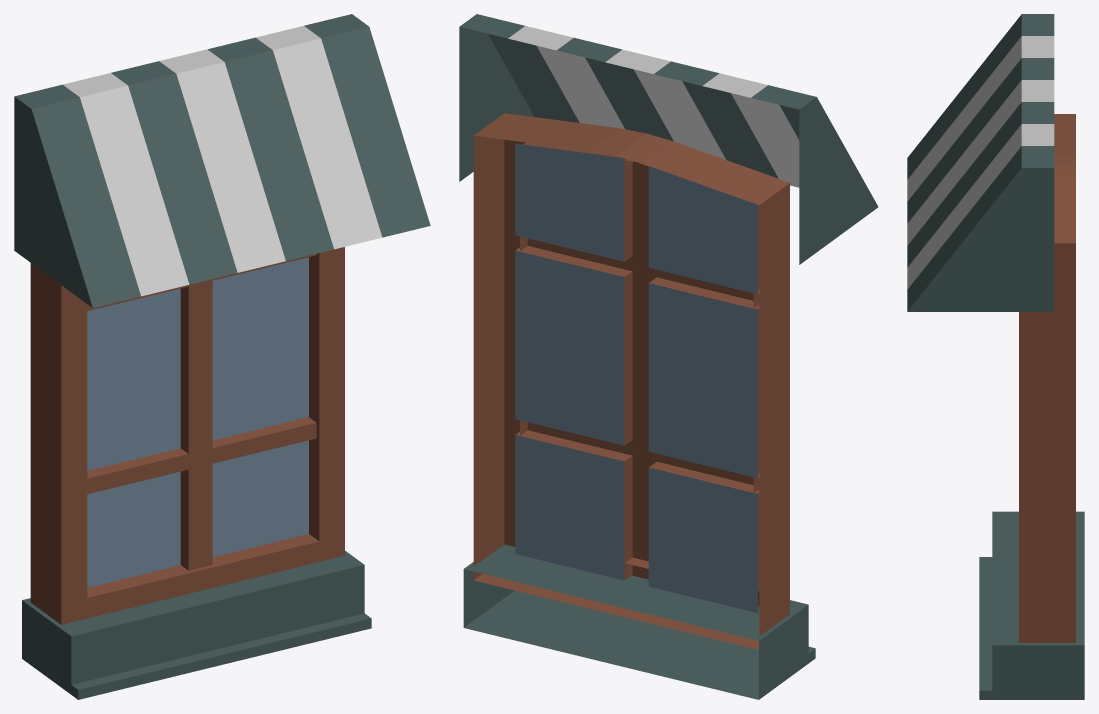
File: Window_Double_Roof.glb
3 views of the same model, side by side, from view 1: azimuth 30°, elevation 25°; view 2: azimuth 150°, elevation 25°; view 3: azimuth 270°, elevation 25° (orthographic). The views are drawn at different scales.
Visible parts, largest first — view 1: Window_Double_Roof; view 2: Window_Double_Roof; view 3: Window_Double_Roof.
Boxes of the visible parts, box(x1,y1,x2,y2) form: Window_Double_Roof: box(14, 14, 430, 699); Window_Double_Roof: box(459, 14, 878, 699); Window_Double_Roof: box(907, 14, 1084, 699).
Bounding box in the file's own units: 0.3603 × 0.5913 × 0.1755.
1 material, 1 textured.
